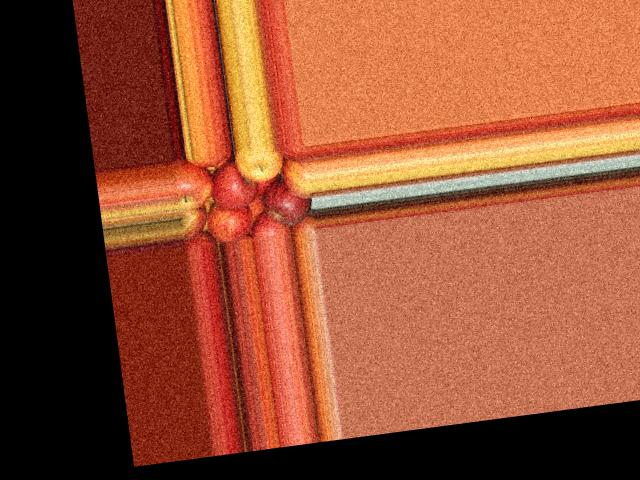apple: (203, 197, 258, 243)
